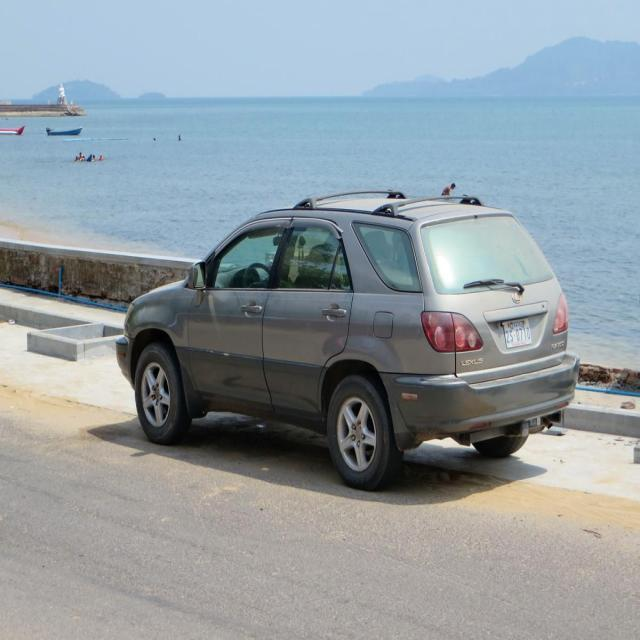Phnom_Penh: (509, 320, 526, 330)
